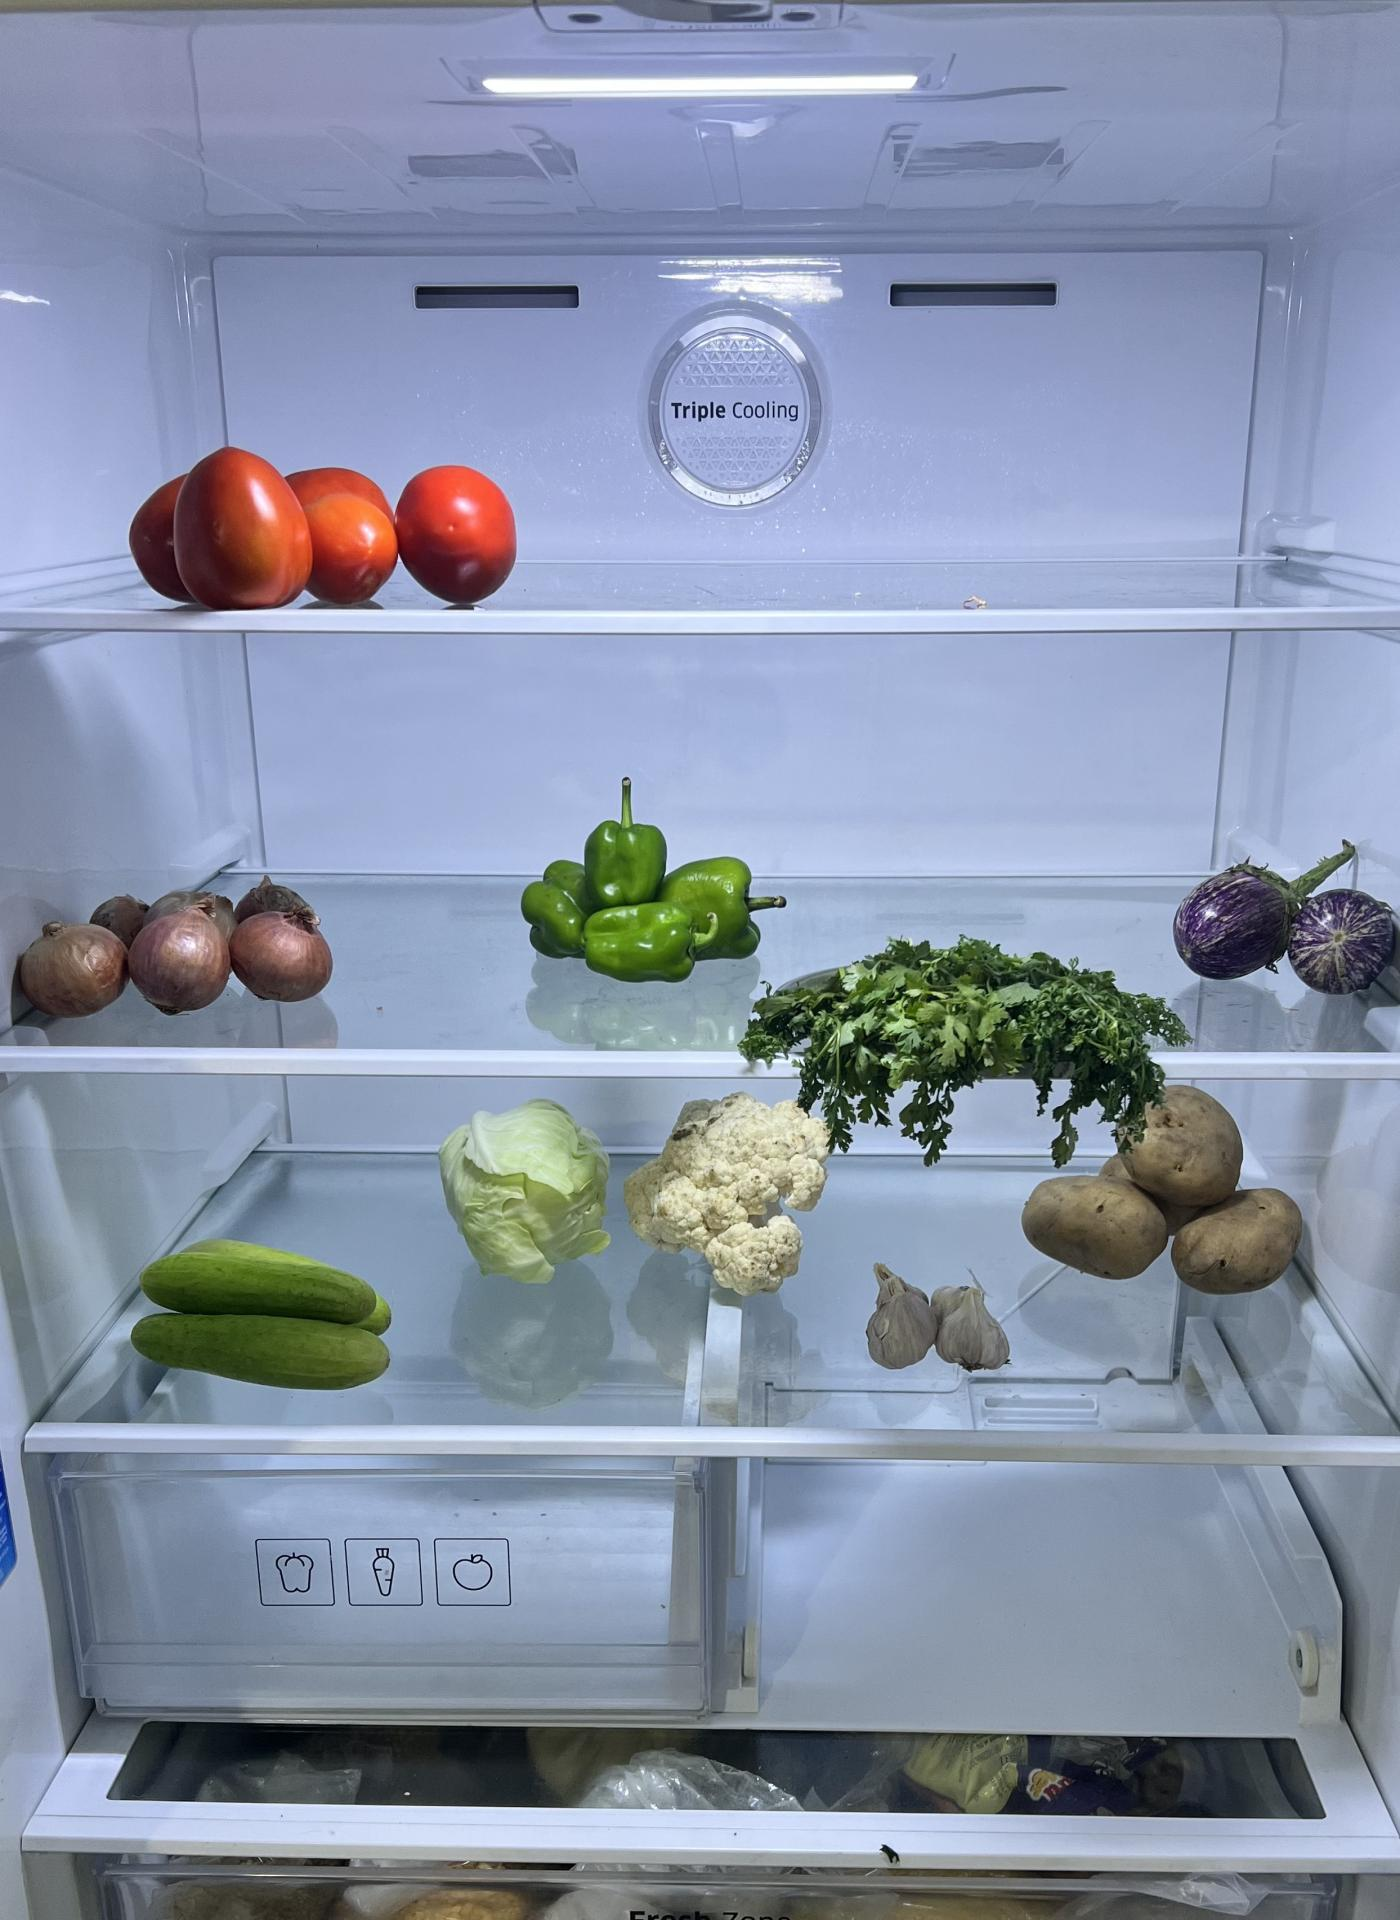brinjal: (1176, 848, 1393, 1020)
cabbage: (438, 1094, 610, 1278)
capsicum: (525, 812, 766, 982)
cauliflower: (632, 1085, 836, 1288)
coriander: (751, 941, 1172, 1118)
cucumber: (122, 1243, 403, 1386)
garlic: (866, 1258, 1015, 1371)
onion: (13, 882, 344, 1026)
potato: (1032, 1090, 1312, 1294)
tomato: (131, 452, 529, 620)
